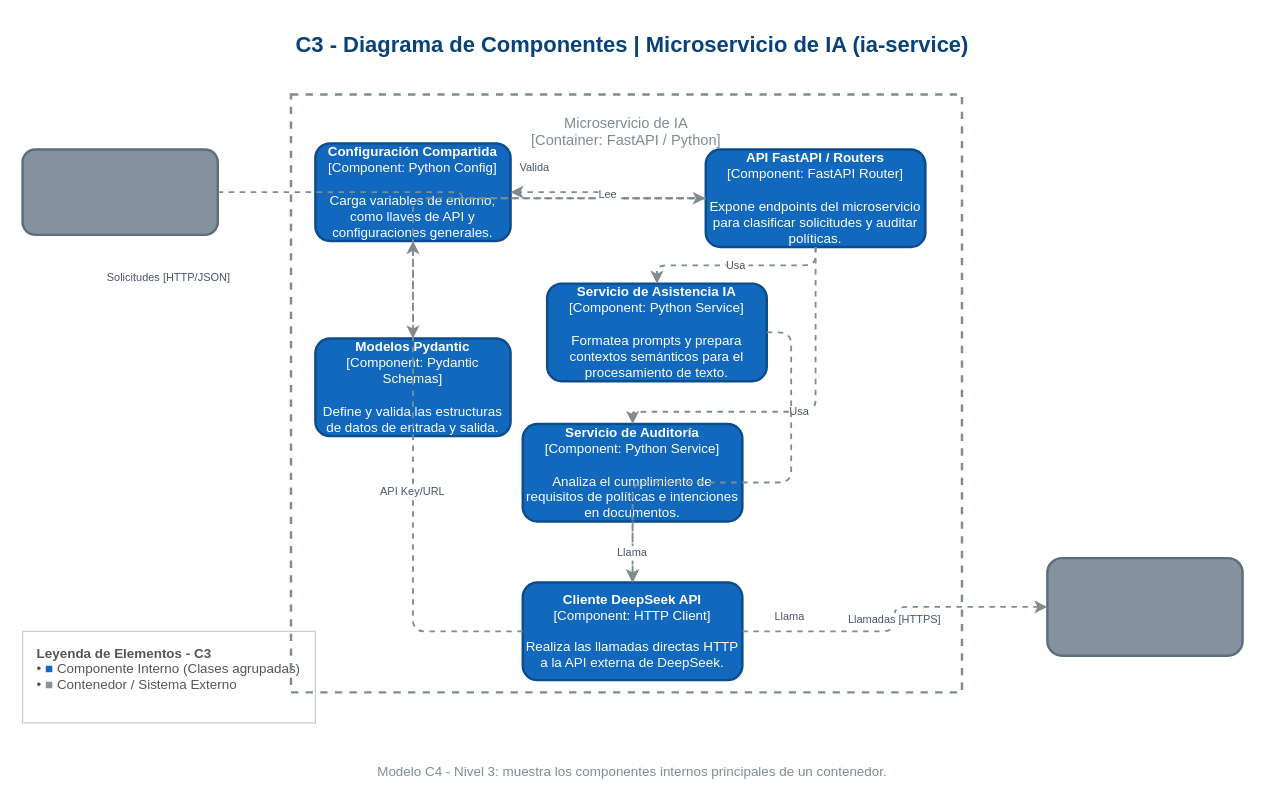
The diagram is 1264 pixels wide and 810 high, and some of its shapes have lost their labels. Each missing label, with the centre of its shape:
"Backend / API Principal [Container]" belongs at point 119,191.
"DeepSeek API [External Software System]" belongs at point 1144,606.
